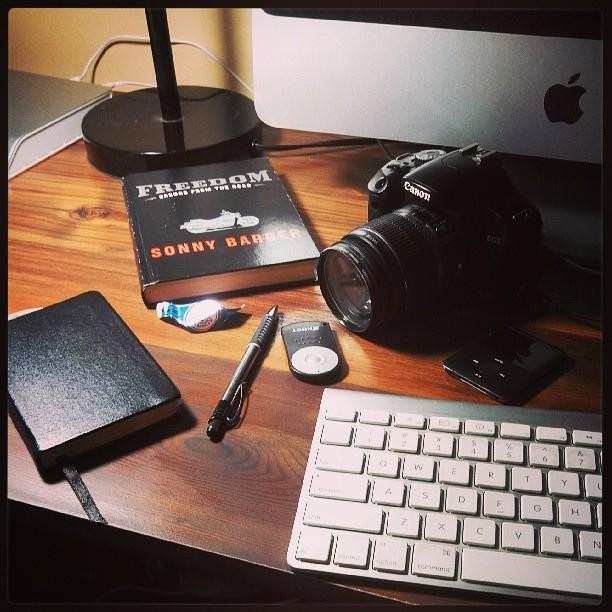apple: (544, 73, 586, 125)
